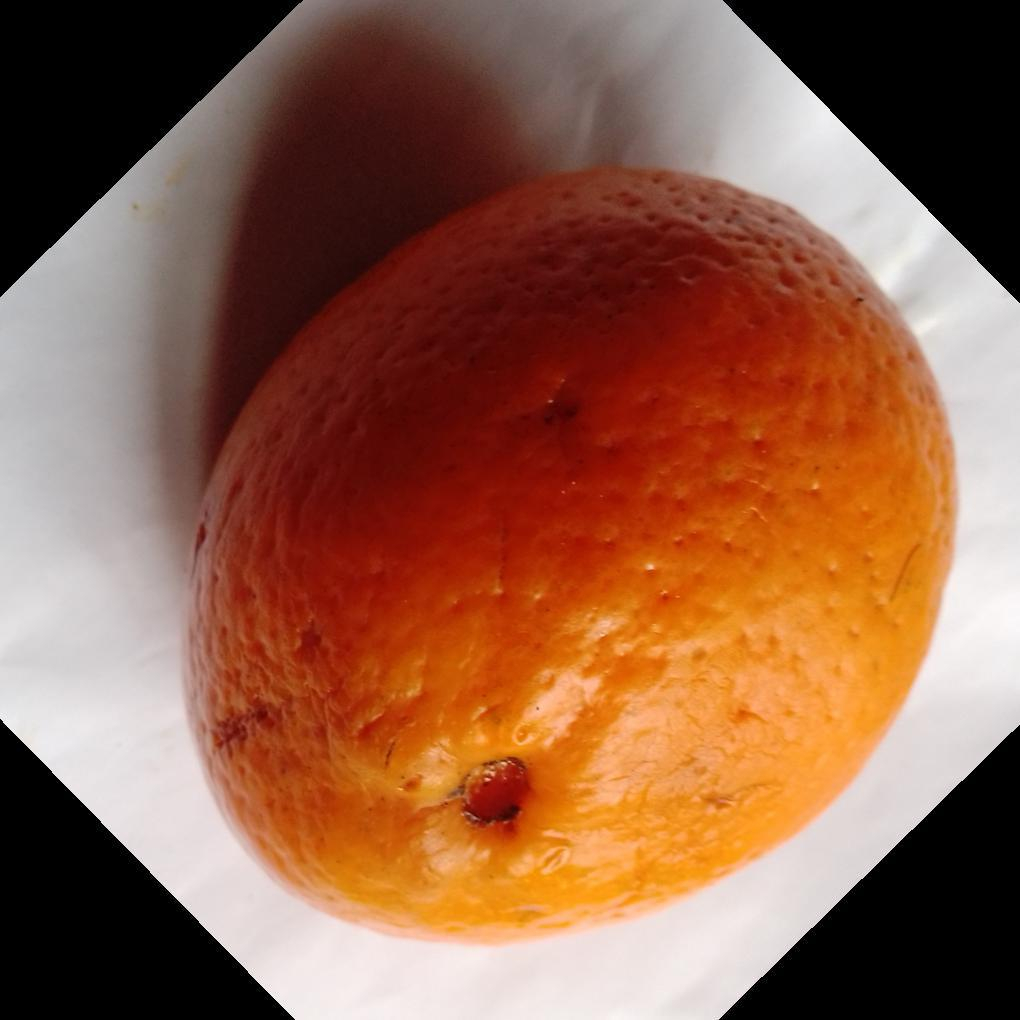FreshOrange: (177, 165, 962, 951)
